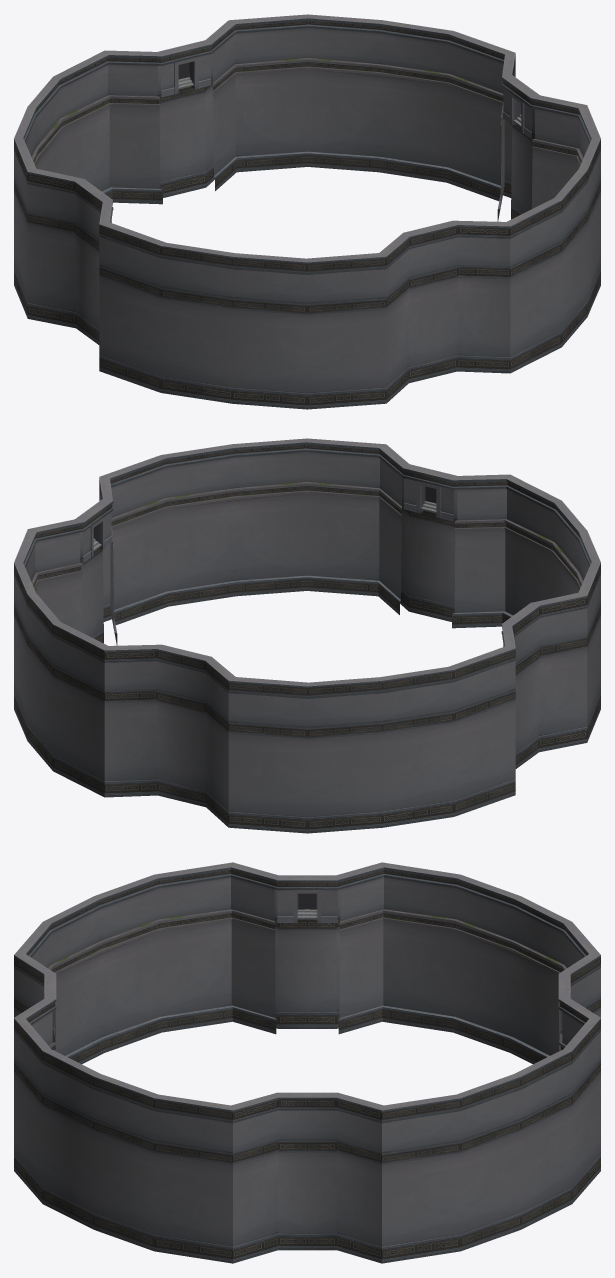
File: scene_feicuizhita_tanei03.FBX
3 views of the same model, one above another, from view 1: azimuth 30°, elevation 25°; view 2: azimuth 150°, elevation 25°; view 3: azimuth 270°, elevation 25° (orthographic). The views are drawn at different scales.
Visible parts, largest first — view 1: scene_feicuizhita_tanei03; view 2: scene_feicuizhita_tanei03; view 3: scene_feicuizhita_tanei03.
Part boxes in pixels (x1,y1,x2,y2): scene_feicuizhita_tanei03: (14,14,600,409); scene_feicuizhita_tanei03: (14,438,600,833); scene_feicuizhita_tanei03: (14,862,600,1263).
Size of the model in its own units: 3885 by 1119 by 3885.
